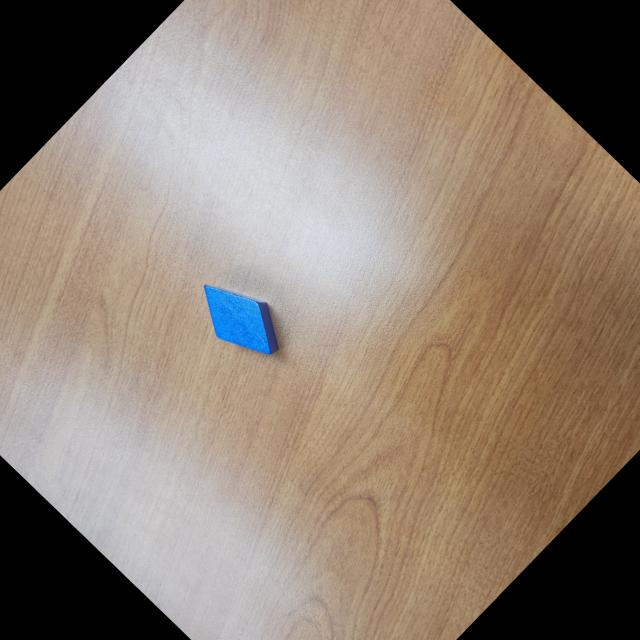blue: (185, 264, 299, 377)
